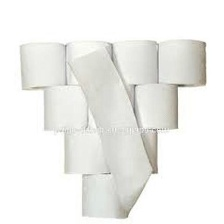tissue: (61, 45, 156, 224), (154, 37, 209, 92), (128, 79, 182, 135), (14, 39, 70, 93), (107, 37, 161, 90), (62, 38, 116, 91), (38, 82, 91, 133), (60, 128, 112, 177)
